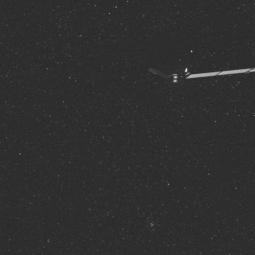earth_observation_sat_1: (142, 51, 249, 92)
